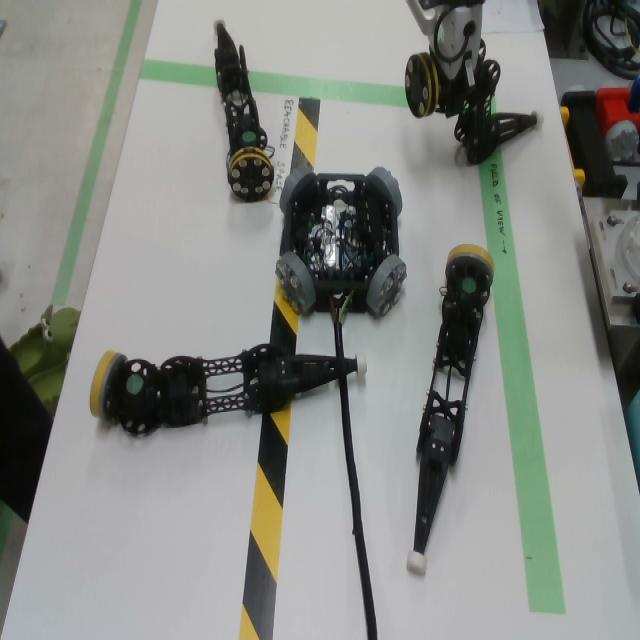body: (284, 173, 399, 315)
body_connector: (275, 252, 316, 315), (366, 255, 407, 317), (367, 167, 404, 217), (279, 167, 316, 215)
gripper: (428, 4, 482, 119)
leg: (406, 244, 494, 576), (89, 344, 368, 435), (404, 20, 544, 167), (212, 15, 274, 203)
leg_connector: (90, 351, 129, 423), (228, 147, 275, 201), (405, 53, 439, 119), (445, 244, 495, 285)
leg_marker: (126, 375, 143, 395), (462, 277, 476, 293), (242, 131, 256, 143)
